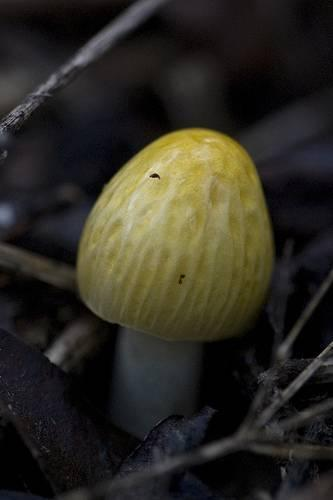Edible Mushroom: (74, 125, 275, 439)
